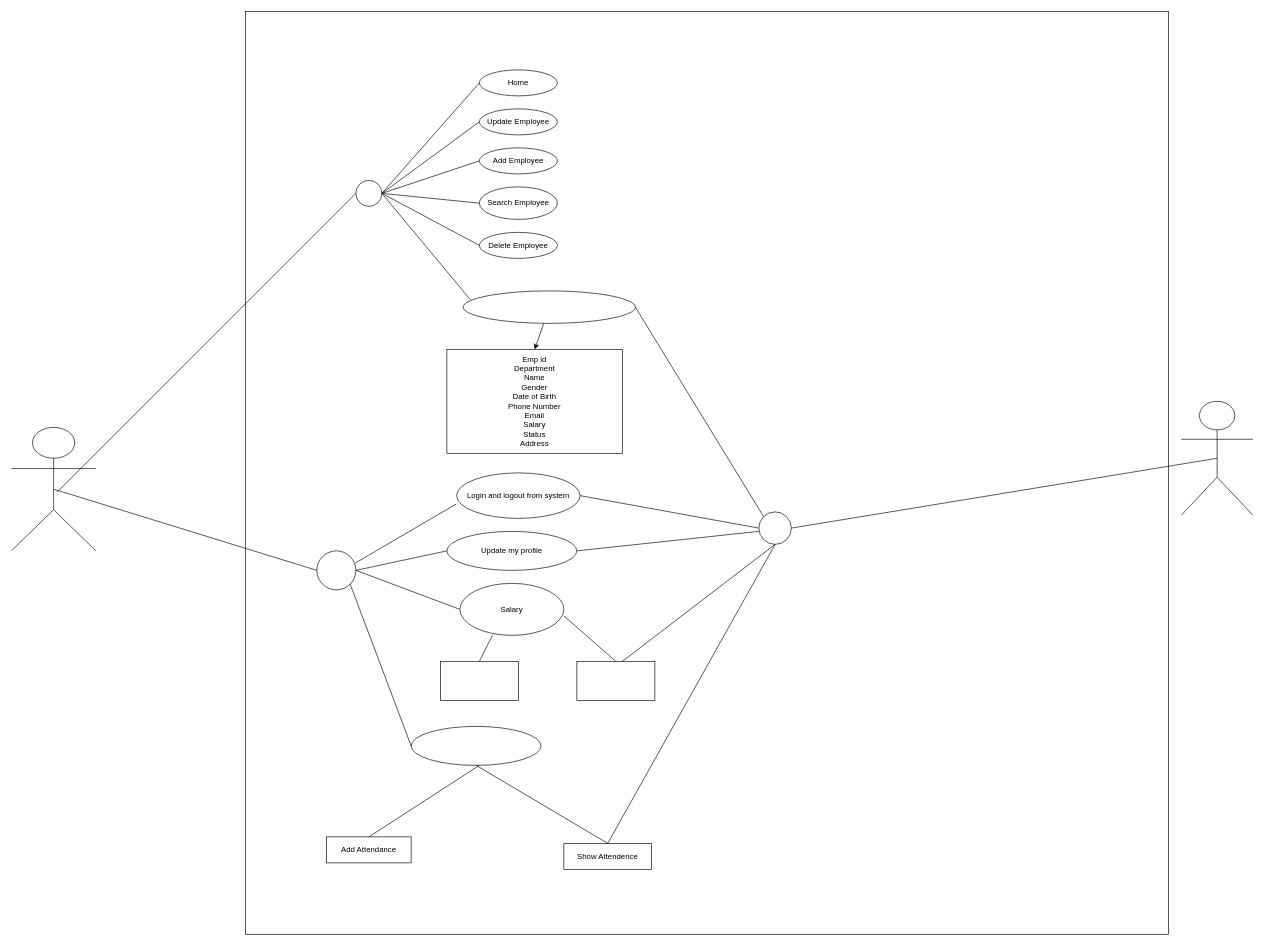
Some shapes in this 1264 by 946 pixel diagram are drawn without their labels. The shapes that lost their labels are listed below. From the top down, each one's centre as x and y in pixels, then its label:
(548,306): Employee Details
(1217,458): Employee
(53,489): Admin
(479,680): Calculate Total Salary
(615,680): Show salarry
(475,745): Attendence
